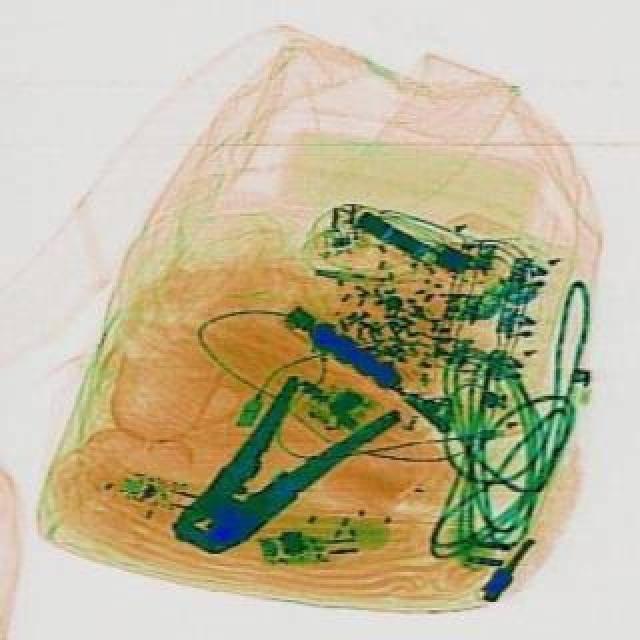wrench: (148, 340, 404, 584)
